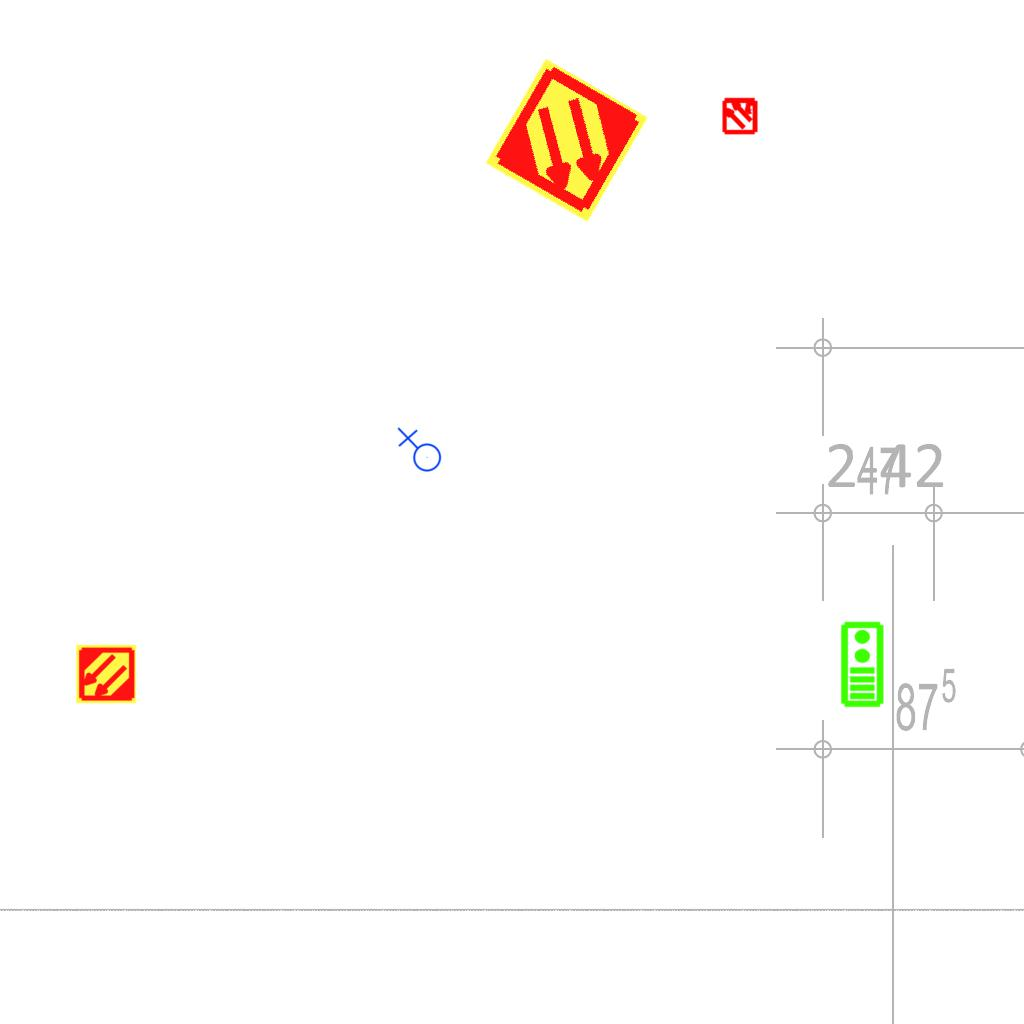ASR_Ansaugrauchmelder: (481, 55, 652, 226), (75, 643, 137, 705)
Elektroanschluss_allgemein_230V_Geraeteanschlussdose_230V: (395, 427, 442, 476)
Gegensprechanlage_mit_Video: (838, 620, 885, 708)
OT_Multisensormelder_(Kombination_RMO_WMD): (712, 87, 768, 143)
